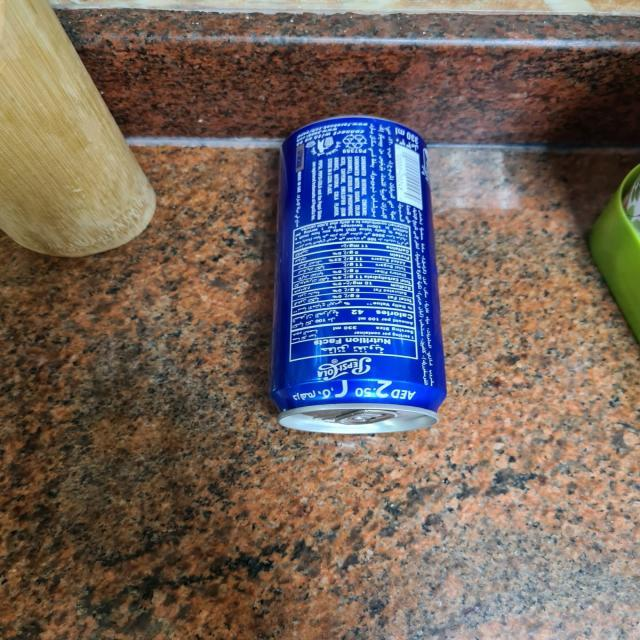can: (272, 114, 443, 442)
